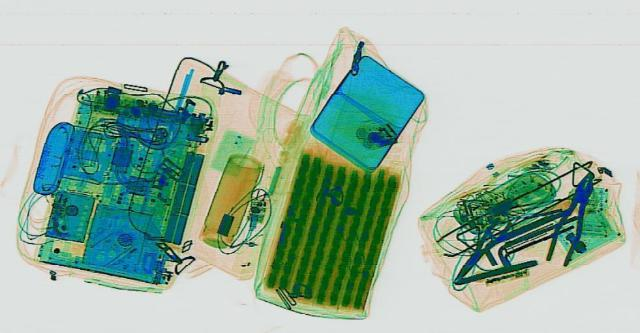Pliers: (540, 169, 604, 265), (442, 216, 516, 282)
